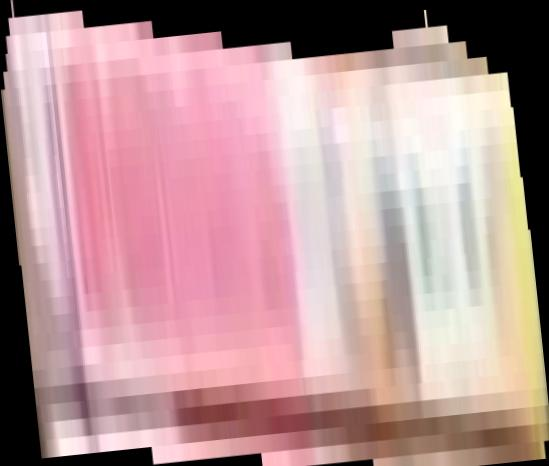flat: (1, 1, 549, 466)
